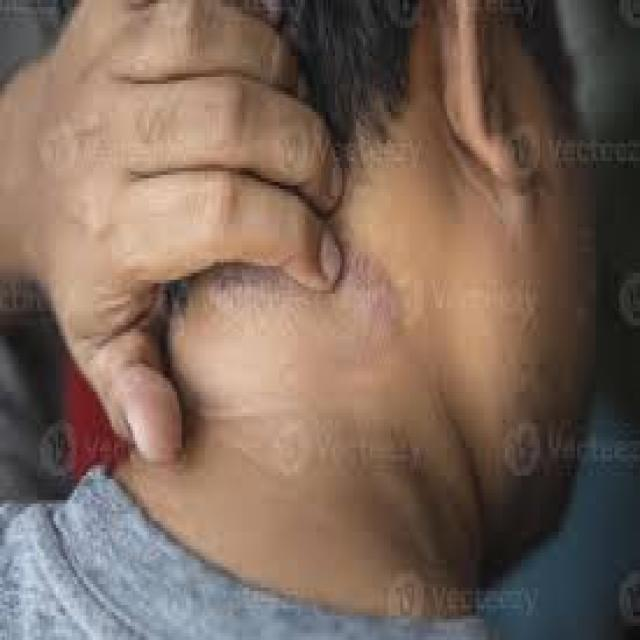Acanthosis Nigricans: (173, 161, 513, 597)
